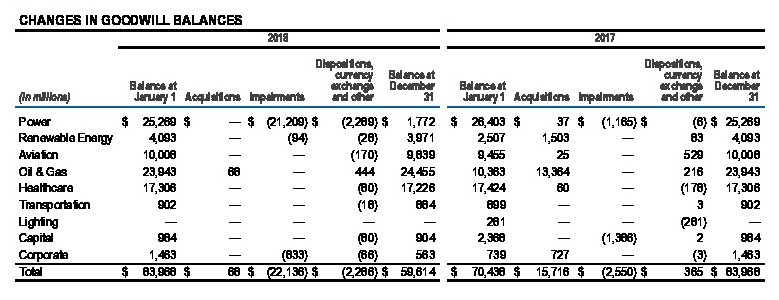table: (0, 0, 779, 300)
